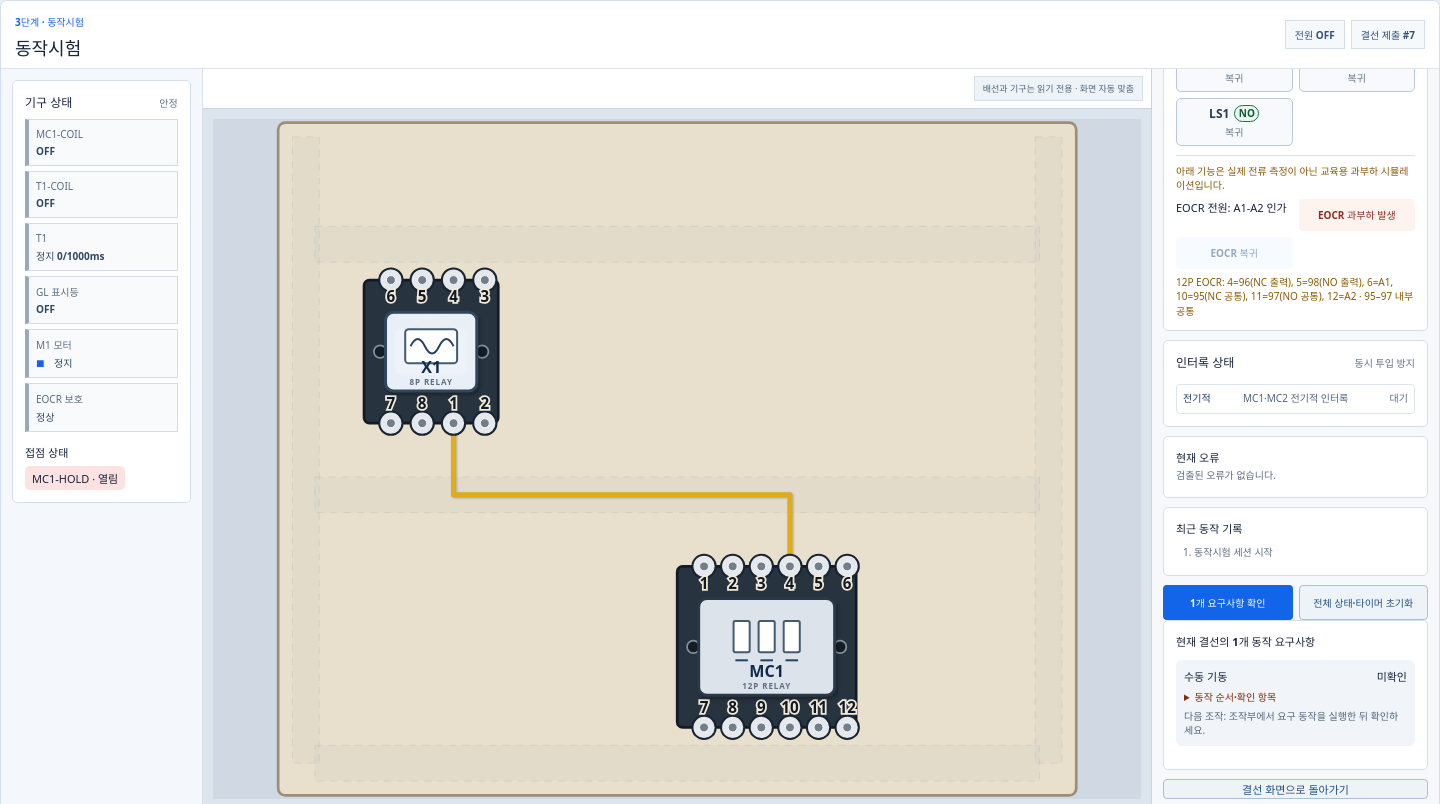
Test: 동작시험 › keeps requirement outcomes distinct while hiding PDF prefixes and unrun observations
(page scrolled)
Expected: the text "미확인" is shown, [1377,668,1407,684]
Expected: the text "수동 기동" is shown, [1184,668,1227,684]
Click the button "1개 요구사항 확인" at x=1228, y=602, box [1163,585,1292,620]
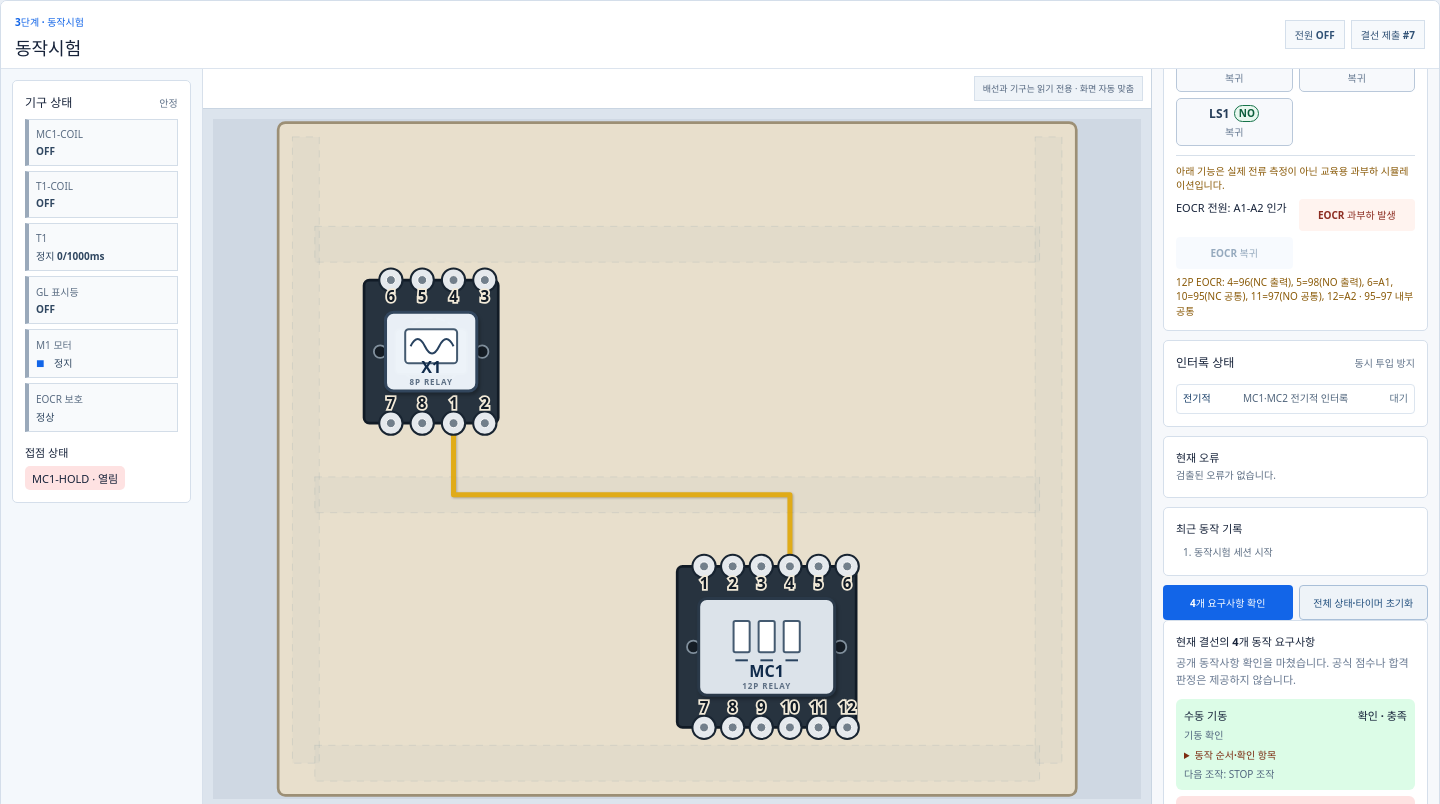
Now the text "확인 · 충족" is shown, box [1358,707,1407,723]
Click the button "전체 상태·타이머 초기화" at x=1363, y=602, box [1298,585,1428,620]
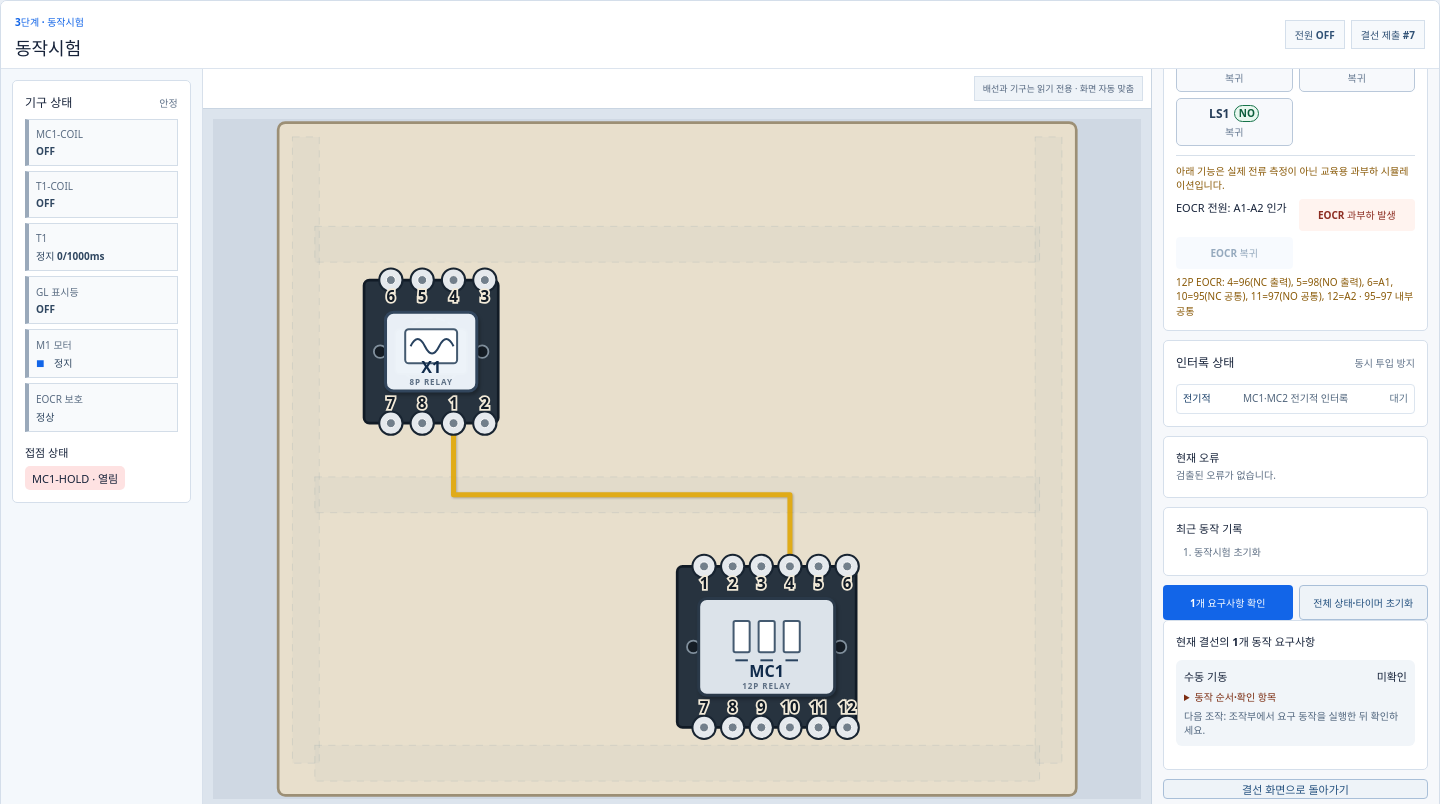
Now the text "확인 · 충족" is gone
Now the text "미확인" is shown, box [1377,668,1407,684]
